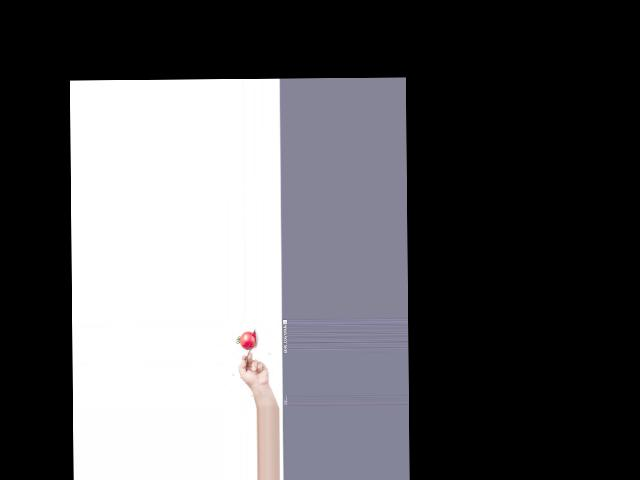tomato: (239, 331, 255, 350)
